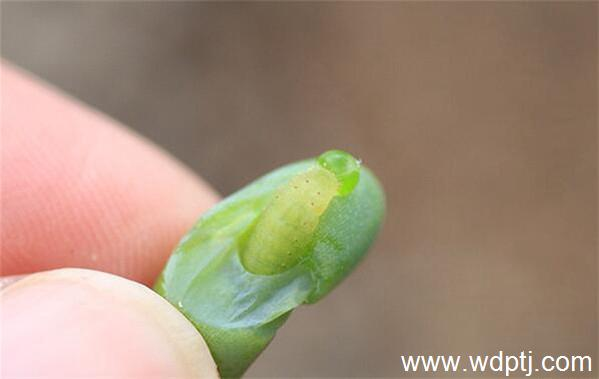pest: (225, 150, 357, 272)
